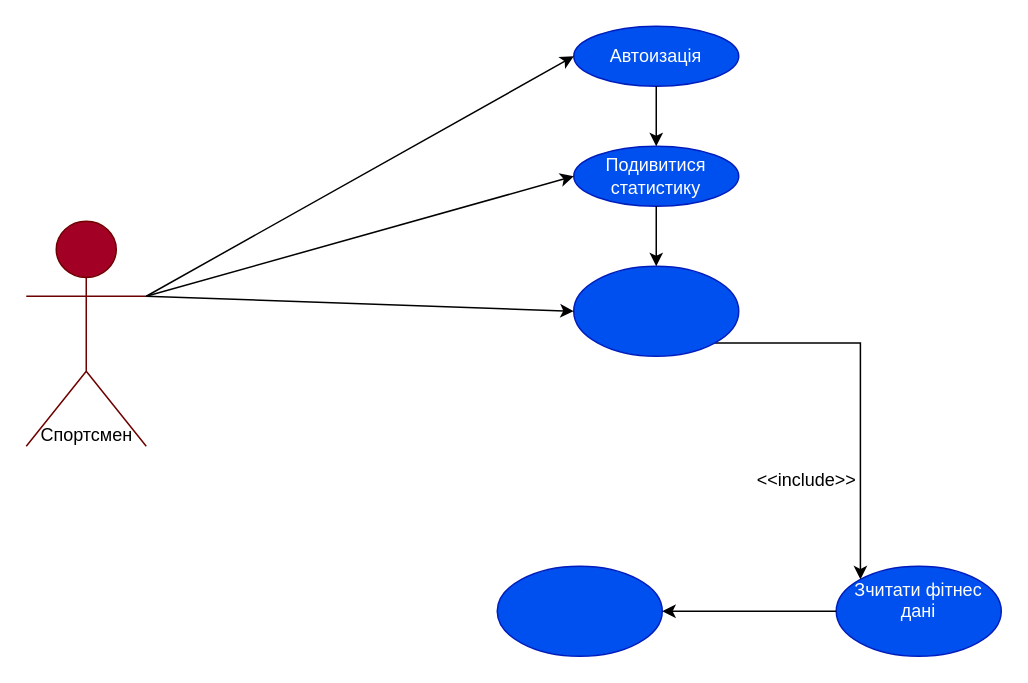
Image size: 1028x683. Some labels were removed from this diagram. The box of each missing label's shape, as (x1, y1, x2, y2) in pixels:
Зчитати дані з смарт девайсів: (496, 565, 662, 656)
Переглянути прогрес тренування: (572, 265, 739, 356)
